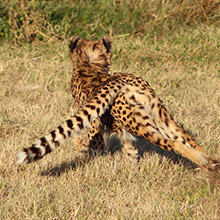Cheetah: (20, 35, 220, 173)
